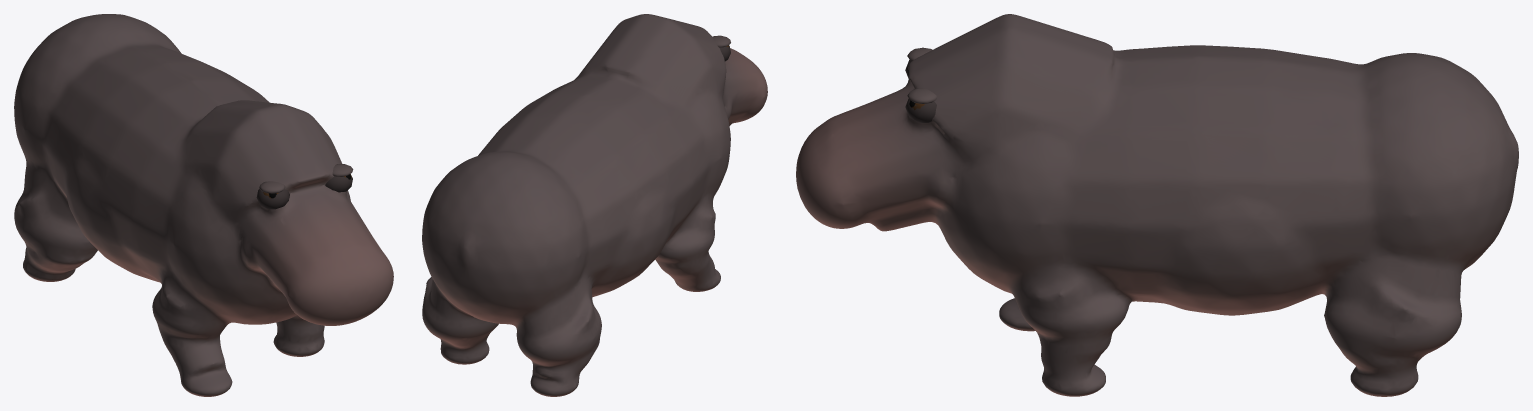
File: HippopotamusAmphibius.fbx
3 renders of one model, left to right at view 1: azimuth 30°, elevation 25°; view 2: azimuth 150°, elevation 25°; view 3: azimuth 270°, elevation 25°, orthographic. The views are drawn at different scales.
Parts seen in each view (by area): view 1: HippopotamusAmphibius; view 2: HippopotamusAmphibius; view 3: HippopotamusAmphibius.
Boxes of the visible parts, x1,y1,x2,y2 form: HippopotamusAmphibius: (14, 14, 393, 396); HippopotamusAmphibius: (422, 14, 767, 396); HippopotamusAmphibius: (796, 14, 1518, 396).
Bounding box in the file's own units: 0.7785 × 1.07 × 2.09.
